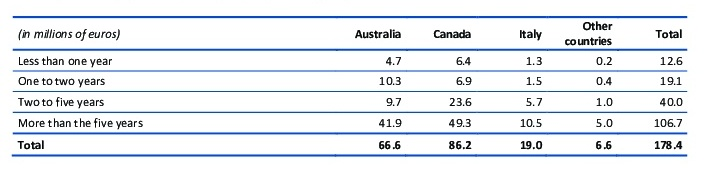table: (0, 0, 707, 172)
